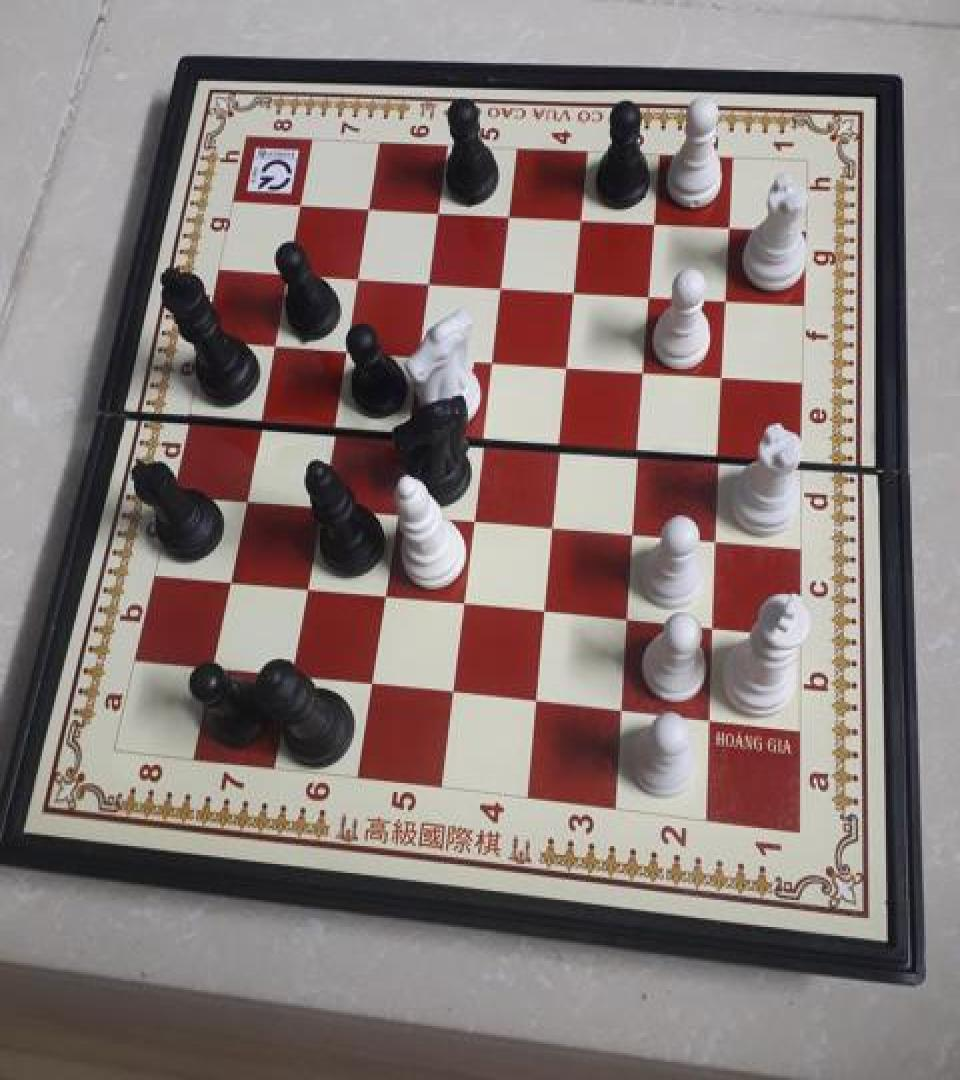xcorner: (198, 649, 226, 681), (277, 658, 305, 690), (358, 667, 386, 699), (440, 676, 468, 708), (524, 685, 552, 717), (609, 694, 637, 726), (696, 704, 724, 736), (215, 561, 243, 593), (292, 569, 320, 601), (371, 577, 399, 609), (451, 585, 479, 617), (532, 594, 560, 626), (231, 479, 259, 511), (306, 486, 334, 518), (461, 499, 489, 531), (540, 507, 568, 539), (621, 514, 649, 546), (703, 522, 731, 554), (246, 400, 274, 432), (319, 406, 347, 438), (470, 418, 498, 450), (547, 425, 575, 457), (260, 325, 288, 357), (405, 336, 433, 368), (479, 342, 507, 374), (554, 346, 582, 378), (631, 352, 659, 384), (274, 254, 302, 286), (415, 263, 443, 295), (561, 273, 589, 305), (712, 282, 740, 314), (355, 191, 383, 223), (496, 199, 524, 231), (567, 202, 595, 234), (640, 207, 668, 239), (715, 210, 743, 242), (615, 602, 643, 633), (700, 611, 728, 642), (383, 493, 411, 524), (394, 413, 422, 444), (626, 431, 654, 462), (706, 438, 734, 469), (332, 331, 360, 362), (709, 358, 737, 389), (344, 259, 372, 290), (488, 268, 516, 299), (636, 278, 664, 309), (287, 187, 315, 218), (425, 195, 453, 226)
